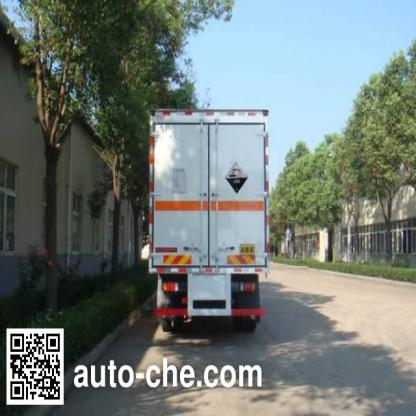normal-truck: (145, 91, 284, 351)
